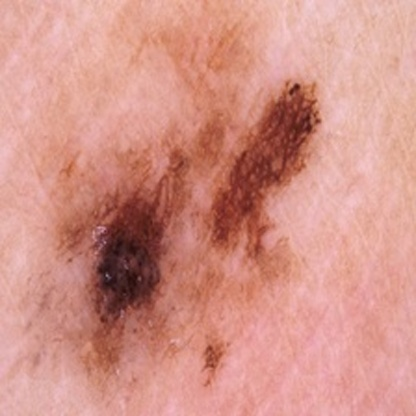malignant: (90, 115, 322, 335)
